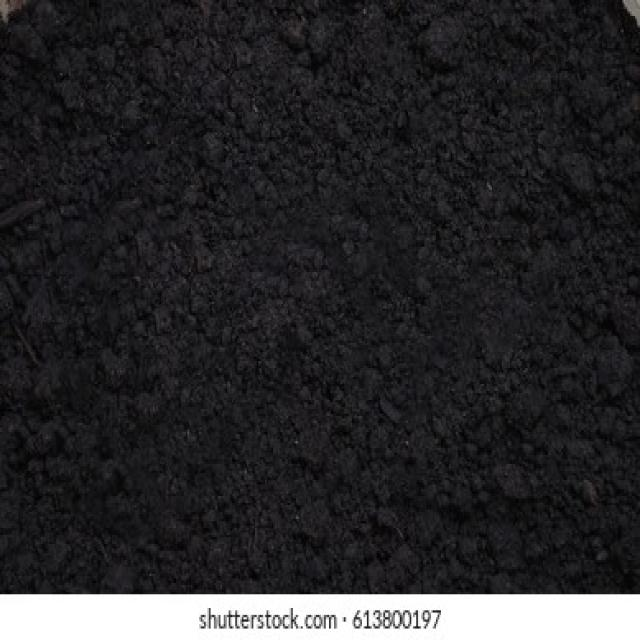Black Soil: (81, 76, 559, 508)
